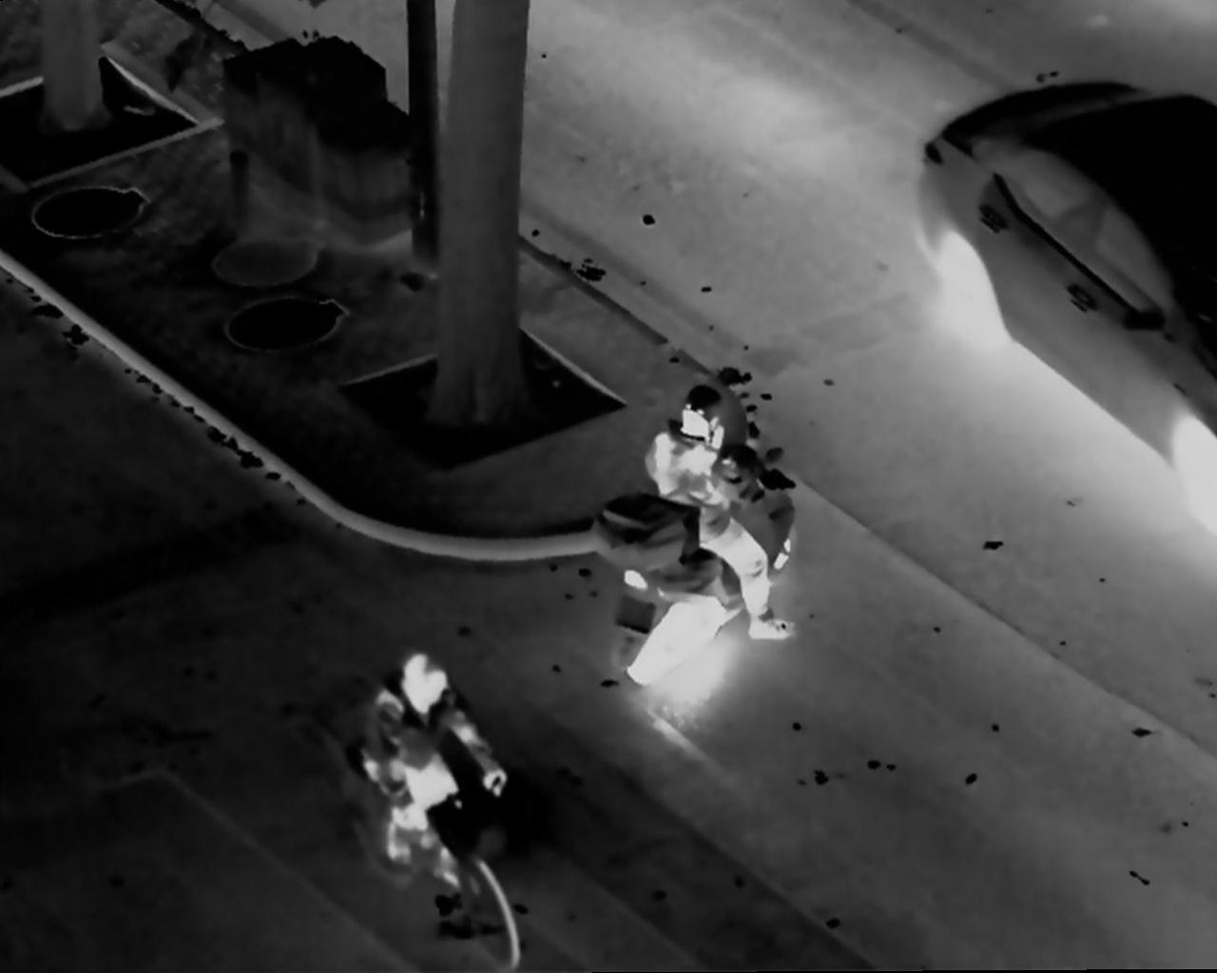person: (643, 383, 802, 646), (364, 648, 508, 913)
